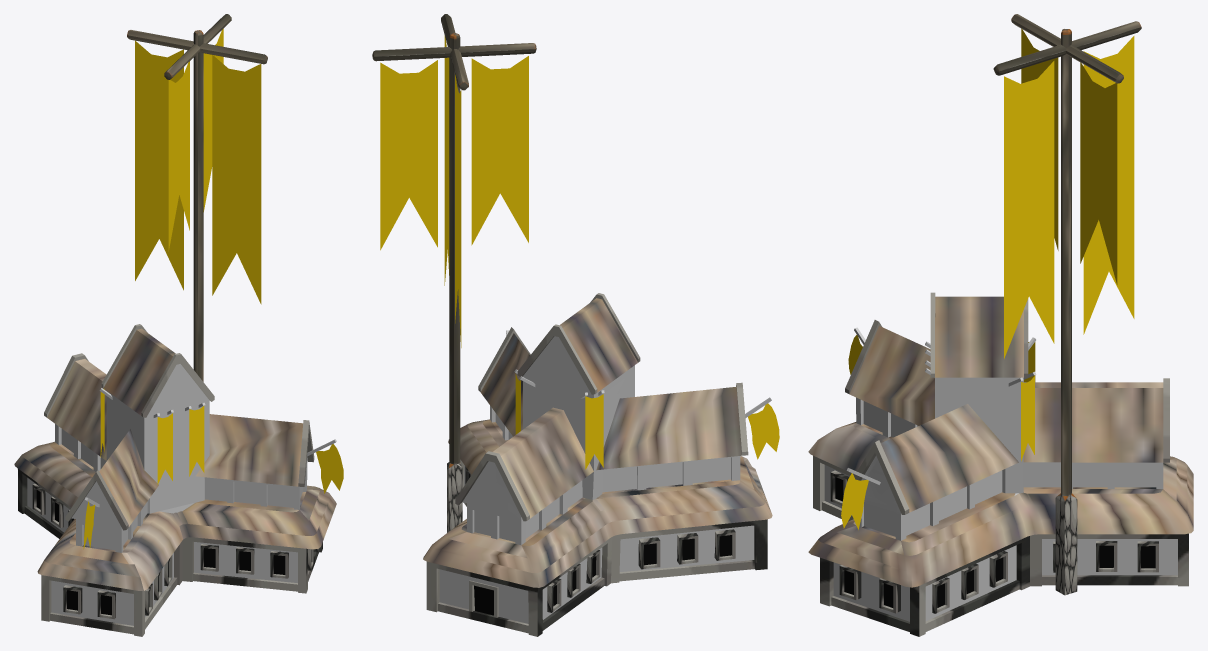
The model's file is props_temple.fbx.
3 renders of one model, left to right at view 1: azimuth 30°, elevation 25°; view 2: azimuth 150°, elevation 25°; view 3: azimuth 270°, elevation 25°, orthographic. The views are drawn at different scales.
Visible parts, largest first — view 1: Cube; view 2: Cube; view 3: Cube.
Part boxes in pixels (x1=…): Cube: x1=14, y1=14, x2=343, y2=636; Cube: x1=372, y1=14, x2=779, y2=636; Cube: x1=808, y1=14, x2=1193, y2=636.
Bounding box in the file's own units: 147 × 230 × 140.
